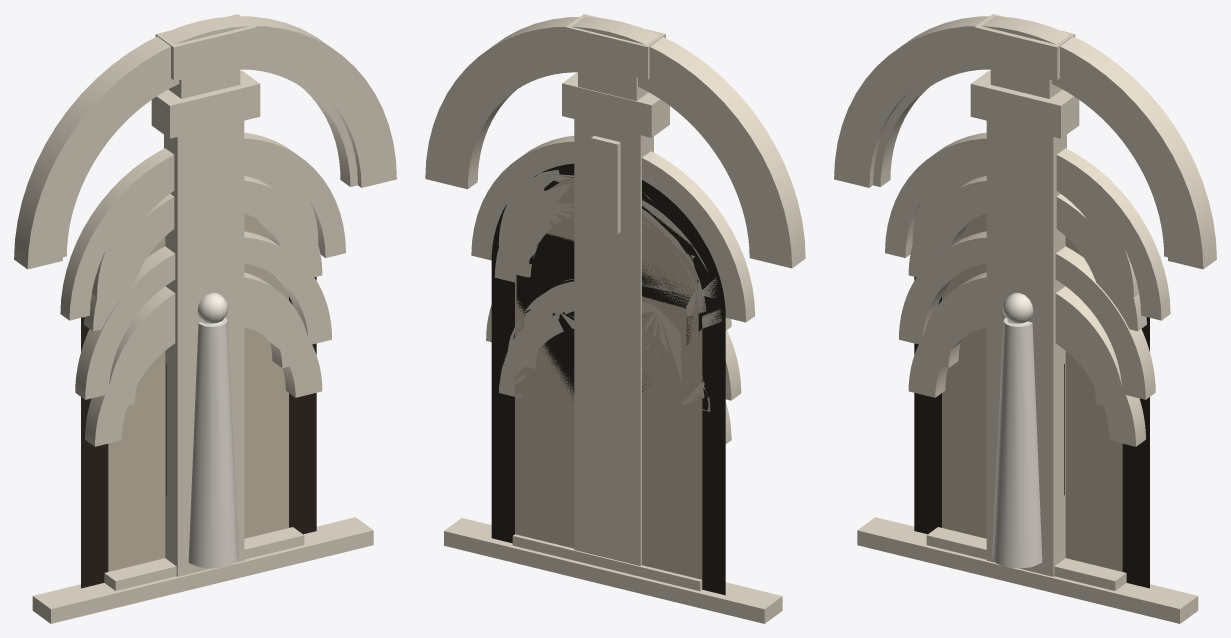
File: Dysis_Facade_Kit_v0_12.fbx
3 renders of one model, left to right at view 1: azimuth 30°, elevation 25°; view 2: azimuth 150°, elevation 25°; view 3: azimuth 330°, elevation 25°, orthographic.
Visible parts, largest first — view 1: SM_Kit_Facade_Pilaster_L2, SM_Kit_Facade_DoorFrame_N, SM_Kit_Facade_BlindArch_L0, SM_Kit_Facade_Pilaster_L3, SM_Kit_Facade_BlindArch_L2, SM_Kit_Facade_WinFrame_b1, SM_Kit_Facade_Statue_L2, SM_Kit_Facade_BlindArch_L3, SM_Kit_Facade_WinFrame_sea, SM_Kit_Facade_BlindArchWin_L2, SM_Kit_Facade_WinFrame_h3, SM_Kit_Facade_BlindArchTunWin_L2 (+7 smaller); view 2: SM_Kit_Facade_BlindArch_L0, SM_Kit_Facade_Pilaster_L3, SM_Kit_Facade_BlindArchWin_L1, SM_Kit_Facade_DoorFrame_N, SM_Kit_Facade_Pilaster_L2, SM_Kit_Facade_WinFrame_sea, SM_Kit_Facade_BlindArchWin_L2, SM_Kit_Facade_BlindArchWin_L3, SM_Kit_Facade_BlindArchTunWin_L1, SM_Kit_Facade_WinFrame_c, SM_Kit_Facade_WinFrame_h1, SM_Kit_Facade_WinFrame_iris (+2 smaller); view 3: SM_Kit_Facade_Pilaster_L2, SM_Kit_Facade_DoorFrame_N, SM_Kit_Facade_BlindArch_L0, SM_Kit_Facade_BlindArch_L2, SM_Kit_Facade_WinFrame_b1, SM_Kit_Facade_Statue_L2, SM_Kit_Facade_Pilaster_L3, SM_Kit_Facade_BlindArch_L3, SM_Kit_Facade_WinFrame_sea, SM_Kit_Facade_WinFrame_h3, SM_Kit_Facade_BlindArchWin_L2, SM_Kit_Facade_WinFrame_h2 (+7 smaller).
Boxes of the visible parts, x1,y1,x2,y2 form: SM_Kit_Facade_Pilaster_L2: [151, 70, 260, 576]; SM_Kit_Facade_DoorFrame_N: [14, 16, 396, 269]; SM_Kit_Facade_BlindArch_L0: [60, 132, 345, 588]; SM_Kit_Facade_Pilaster_L3: [155, 14, 256, 573]; SM_Kit_Facade_BlindArch_L2: [94, 153, 318, 571]; SM_Kit_Facade_WinFrame_b1: [75, 231, 331, 601]; SM_Kit_Facade_Statue_L2: [188, 292, 238, 568]; SM_Kit_Facade_BlindArch_L3: [109, 190, 306, 447]; SM_Kit_Facade_WinFrame_sea: [32, 64, 373, 623]; SM_Kit_Facade_BlindArchWin_L2: [92, 199, 318, 538]; SM_Kit_Facade_WinFrame_h3: [85, 297, 322, 610]; SM_Kit_Facade_BlindArchTunWin_L2: [98, 152, 318, 589]; SM_Kit_Facade_BlindArch_L0: [471, 135, 754, 595]; SM_Kit_Facade_Pilaster_L3: [566, 14, 665, 564]; SM_Kit_Facade_BlindArchWin_L1: [505, 179, 731, 579]; SM_Kit_Facade_DoorFrame_N: [425, 17, 805, 268]; SM_Kit_Facade_Pilaster_L2: [562, 72, 669, 565]; SM_Kit_Facade_WinFrame_sea: [444, 48, 782, 623]; SM_Kit_Facade_BlindArchWin_L2: [498, 152, 717, 449]; SM_Kit_Facade_BlindArchWin_L3: [511, 187, 706, 567]; SM_Kit_Facade_BlindArchTunWin_L1: [494, 179, 729, 591]; SM_Kit_Facade_WinFrame_c: [512, 287, 704, 607]; SM_Kit_Facade_WinFrame_h1: [498, 313, 727, 610]; SM_Kit_Facade_WinFrame_iris: [509, 281, 707, 605]; SM_Kit_Facade_Pilaster_L2: [970, 70, 1079, 576]; SM_Kit_Facade_DoorFrame_N: [834, 16, 1216, 269]; SM_Kit_Facade_BlindArch_L0: [885, 132, 1170, 588]; SM_Kit_Facade_BlindArch_L2: [912, 152, 1137, 552]; SM_Kit_Facade_WinFrame_b1: [899, 231, 1155, 594]; SM_Kit_Facade_Statue_L2: [992, 292, 1042, 568]; SM_Kit_Facade_Pilaster_L3: [974, 14, 1075, 534]; SM_Kit_Facade_BlindArch_L3: [924, 190, 1121, 491]; SM_Kit_Facade_WinFrame_sea: [857, 64, 1198, 623]; SM_Kit_Facade_WinFrame_h3: [908, 297, 1145, 610]; SM_Kit_Facade_BlindArchWin_L2: [1065, 249, 1138, 571]; SM_Kit_Facade_WinFrame_h2: [909, 298, 1140, 610].
Bounding box in the file's own units: 470 × 673 × 69.27.
